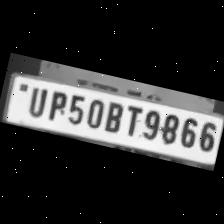0: (81, 93, 108, 131)
5: (62, 89, 90, 127)
6: (194, 116, 221, 154), (175, 111, 201, 150)
8: (157, 110, 183, 148)
9: (138, 105, 164, 142)
B: (100, 96, 128, 135)
P: (43, 86, 70, 124)
T: (119, 100, 146, 139)
U: (22, 81, 52, 119)
